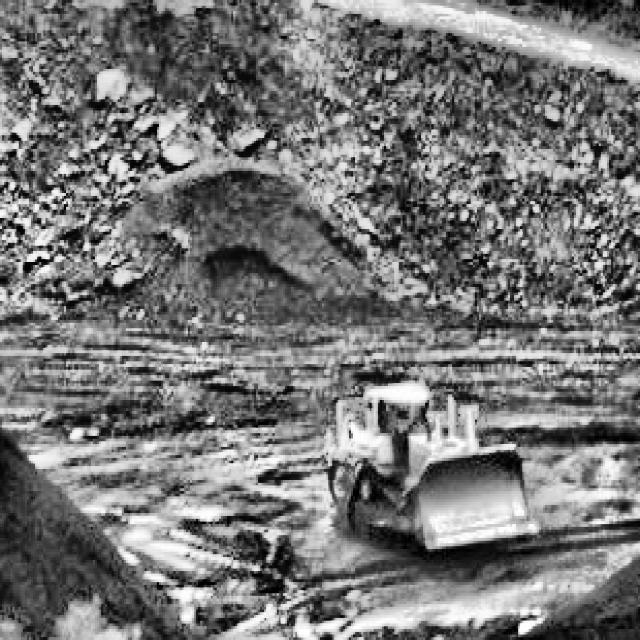buldozerpayloadergrader: (306, 363, 541, 581)
